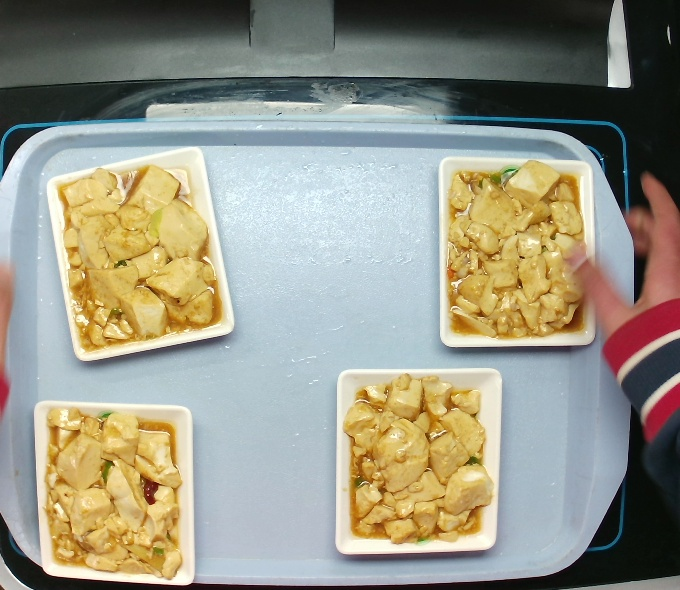wcq-DouFu: (446, 155, 604, 353), (338, 367, 501, 554), (63, 169, 210, 349), (40, 408, 185, 575)
